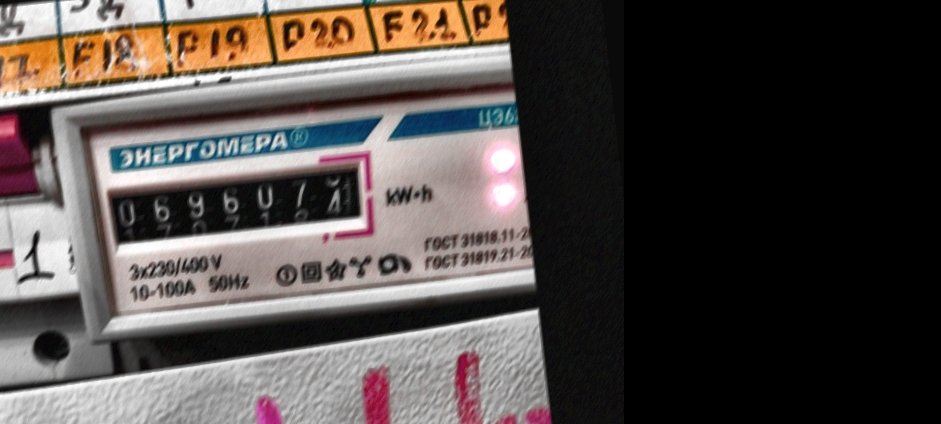0: (254, 178, 276, 210), (116, 197, 137, 226)
4: (324, 186, 343, 216)
6: (219, 184, 241, 215), (150, 192, 172, 222)
7: (290, 177, 310, 208)
9: (185, 189, 205, 219)
screen: (91, 143, 384, 263)
